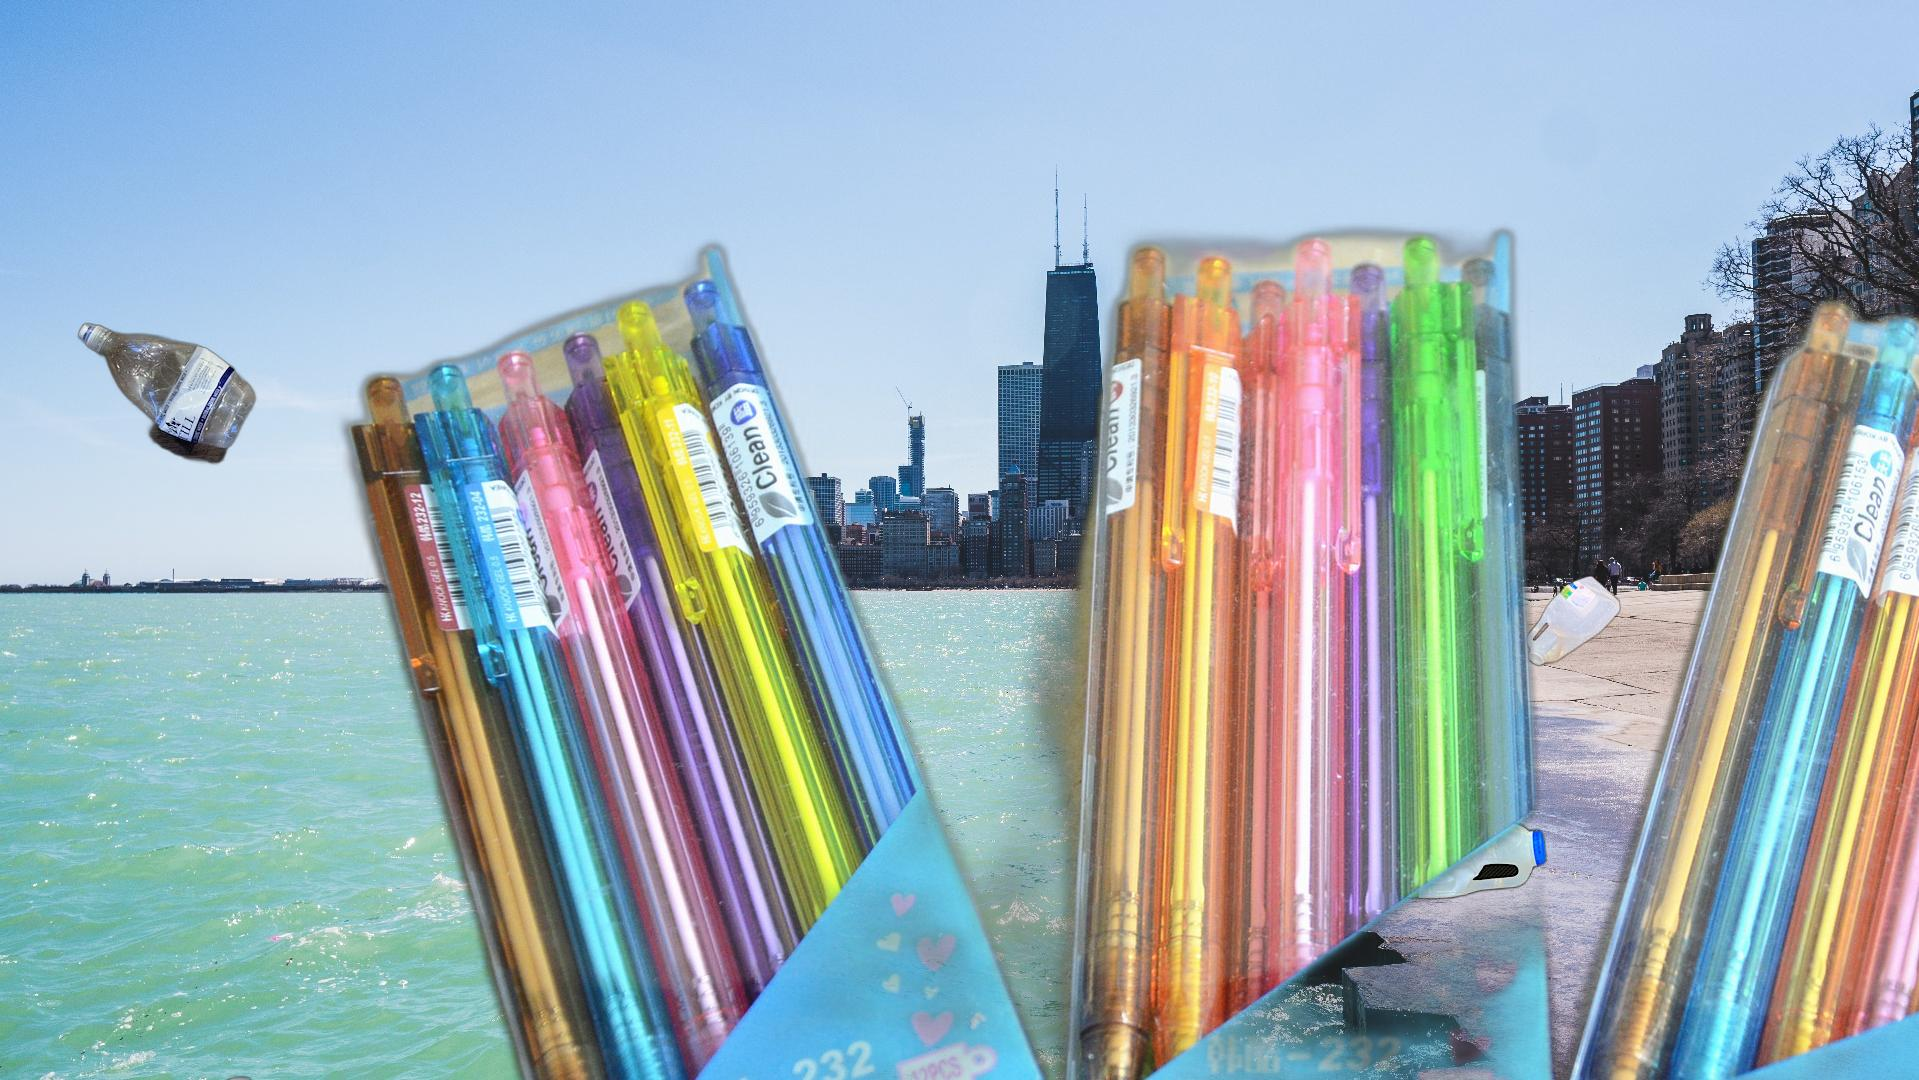clothes: (4, 1073, 341, 1080)
penholder: (329, 219, 1919, 1080)
plastic-bottles: (75, 318, 260, 468), (1346, 787, 1550, 905), (1522, 568, 1625, 673)
